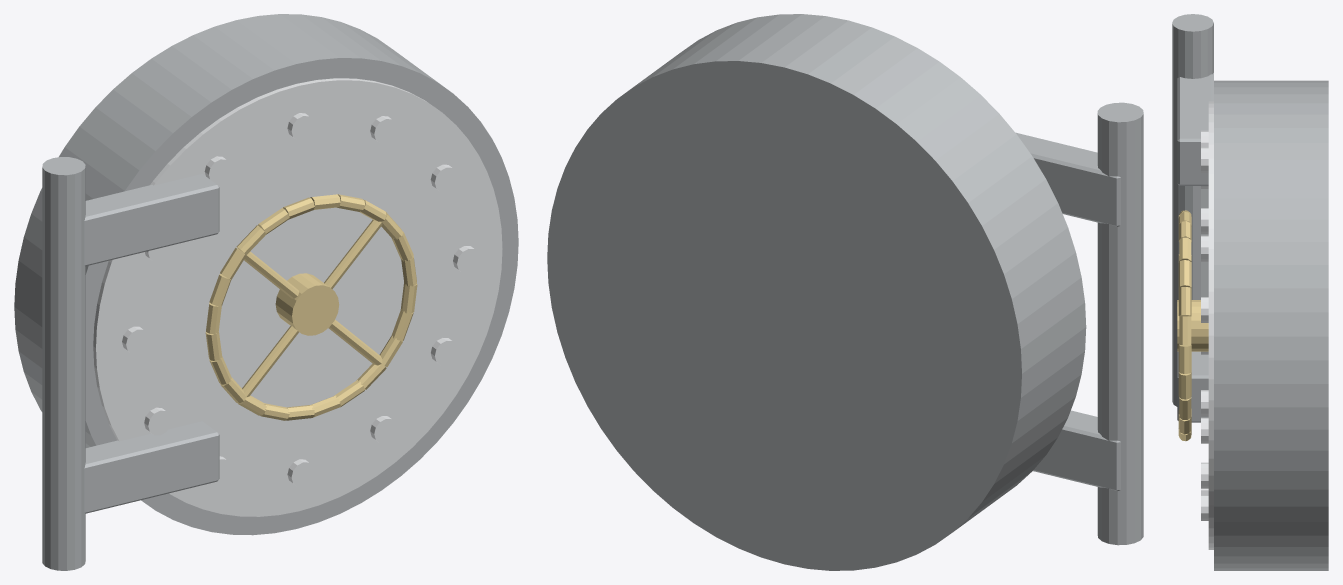
File: vault_leaf.glb
3 views of the same model, side by side, from view 1: azimuth 30°, elevation 25°; view 2: azimuth 150°, elevation 25°; view 3: azimuth 270°, elevation 25° (orthographic). The views are drawn at different scales.
Parts seen in each view (by area): view 1: vault_leaf_chrome, vault_leaf_vault, vault_leaf_brass; view 2: vault_leaf_vault; view 3: vault_leaf_vault, vault_leaf_chrome, vault_leaf_brass.
Part boxes in pixels (<box>): vault_leaf_chrome: <box>93,78,502,516</box>; vault_leaf_vault: <box>14,14,518,570</box>; vault_leaf_brass: <box>205,194,417,420</box>; vault_leaf_vault: <box>547,14,1143,570</box>; vault_leaf_vault: <box>1172,14,1328,570</box>; vault_leaf_chrome: <box>1201,101,1213,549</box>; vault_leaf_brass: <box>1177,210,1208,441</box>.
Bounding box in the file's own units: 2.05 × 1.88 × 0.6.
